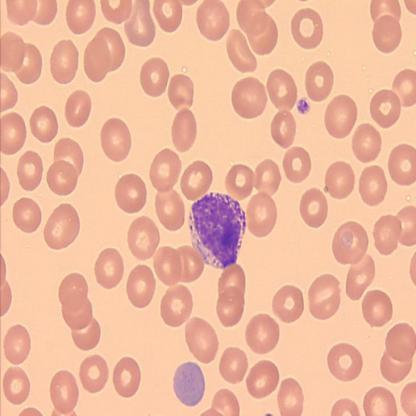Metamyelocyte: (187, 188, 249, 270)
